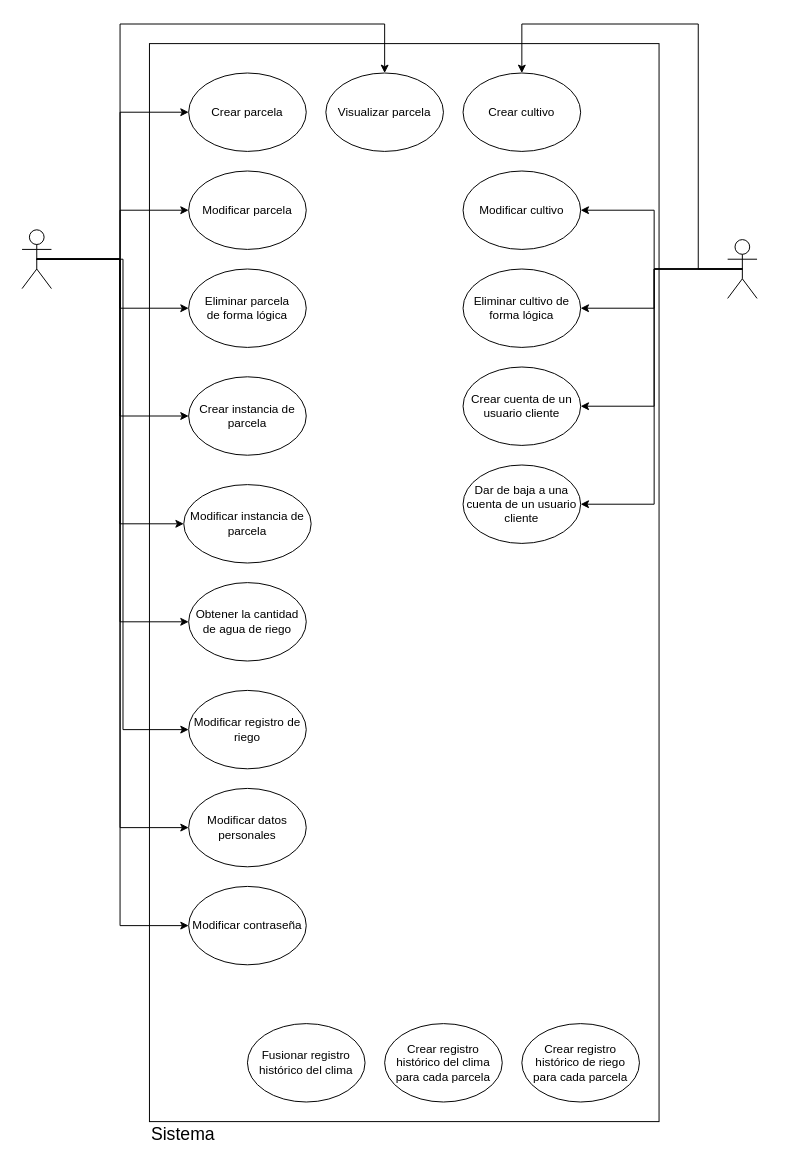
The diagram is 795 pixels wide and 1163 high, and some of its shapes have lost their labels. The shapes that lost their labels are listed below. From the top down, each one's box as (x1, y1, x2, y2) in pixels, then its label:
(21, 229, 51, 289): Usuario cliente
(727, 239, 757, 298): Usuario administrador
